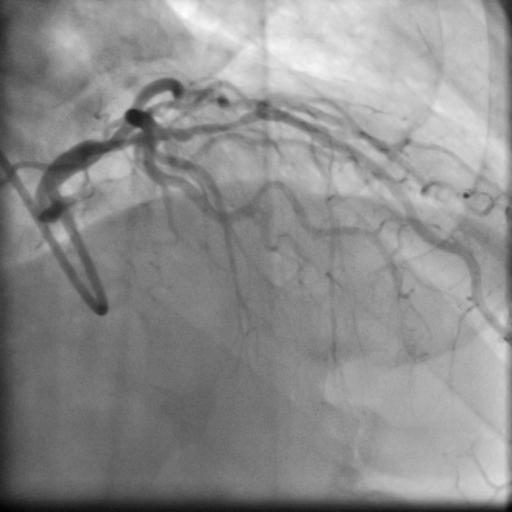Stenosis: (169, 119, 232, 137)
